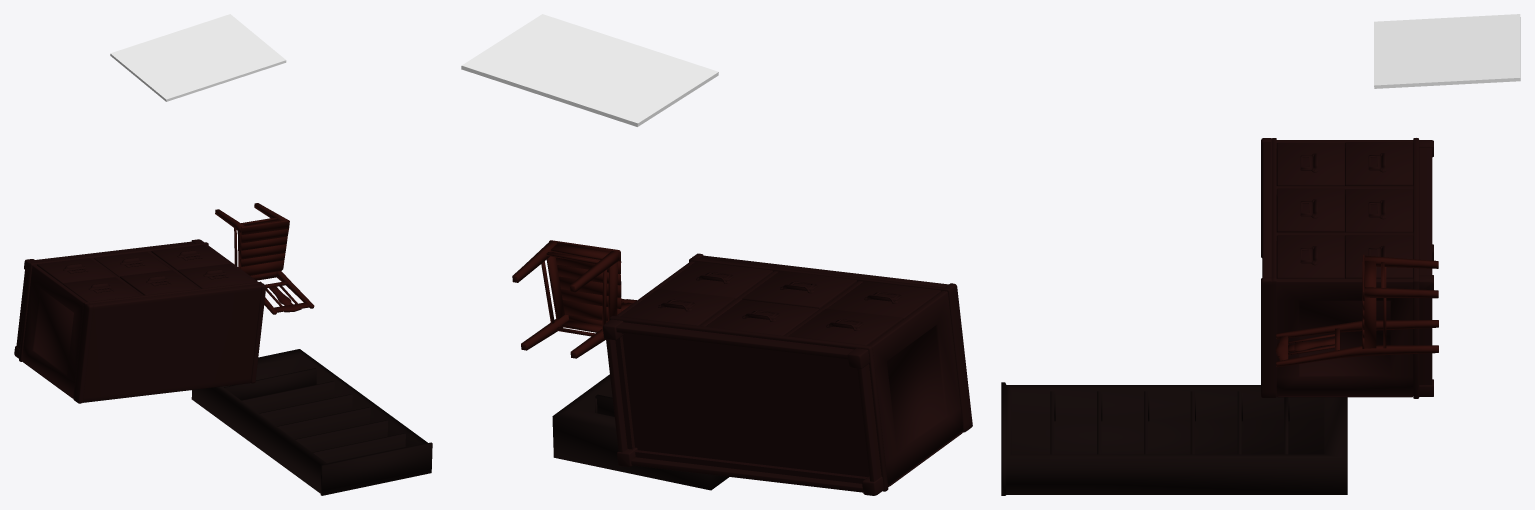
3 renders of one model, left to right at view 1: azimuth 30°, elevation 25°; view 2: azimuth 150°, elevation 25°; view 3: azimuth 270°, elevation 25°, orthographic. The views are drawn at different scales.
Visible parts, largest first — view 1: diffuse_cabinet_01, diffuse_shelf_02, glass_window_01, diffuse_chair_03; view 2: diffuse_cabinet_01, glass_window_01, diffuse_chair_03, diffuse_shelf_02; view 3: diffuse_cabinet_01, diffuse_shelf_02, glass_window_01, diffuse_chair_03.
Part boxes in pixels (x1,y1,x2,y2): diffuse_cabinet_01: (14,239,265,403); diffuse_shelf_02: (191,349,432,495); glass_window_01: (110,14,286,101); diffuse_chair_03: (215,203,314,314); diffuse_cabinet_01: (603,253,972,495); glass_window_01: (461,14,718,126); diffuse_chair_03: (512,240,636,358); diffuse_shelf_02: (552,374,728,490); diffuse_cabinet_01: (1261,138,1433,398); diffuse_shelf_02: (1001,382,1347,495); glass_window_01: (1374,14,1520,88); diffuse_chair_03: (1275,254,1438,367).
Size of the model in its own units: 212 by 250 by 283.
